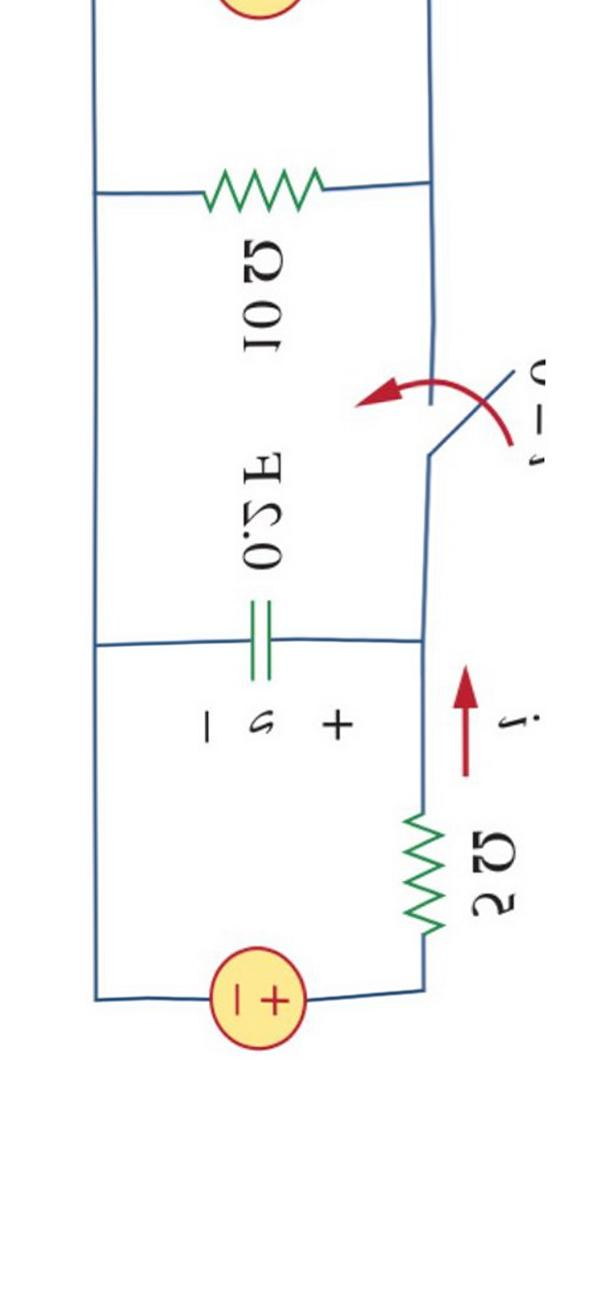Battery: (174, 913, 338, 1076)
